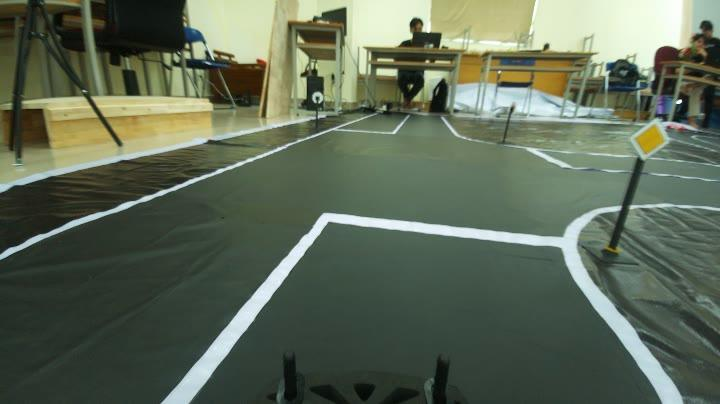priority: (624, 115, 668, 166)
